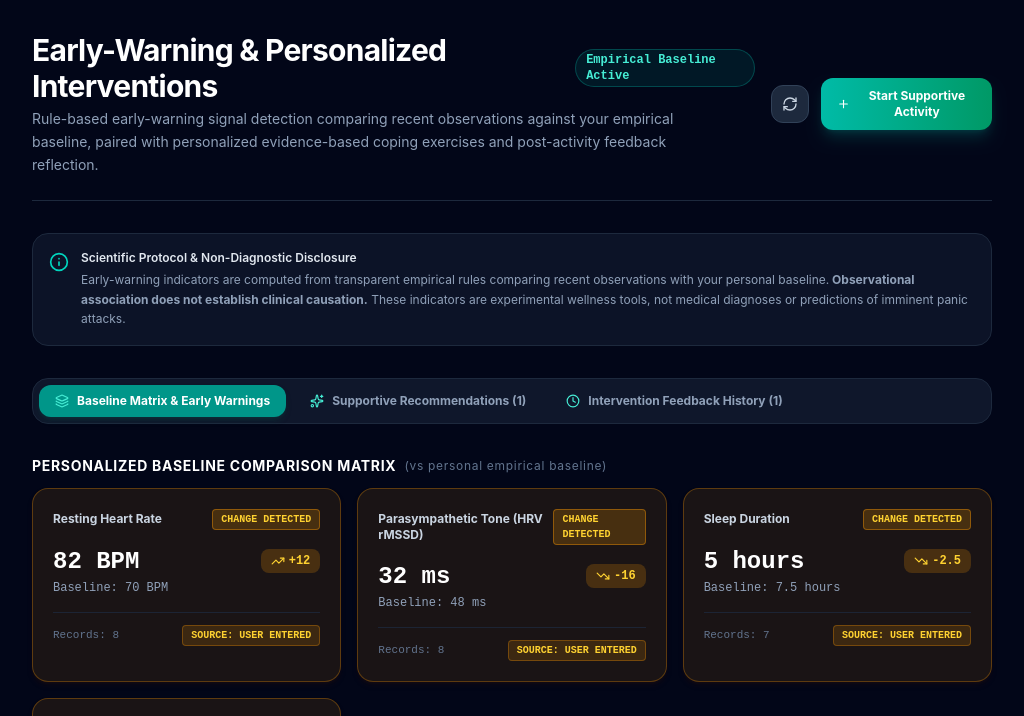
InterventionsPage and Early-Warning Engine › displays contradictory signals and suggests check-in prompt
The image size is (1024, 716).
Note: Check recommendation
Click the button "Supportive Recommendations (1)" at (418, 401), box left=294, top=385, right=542, bottom=417
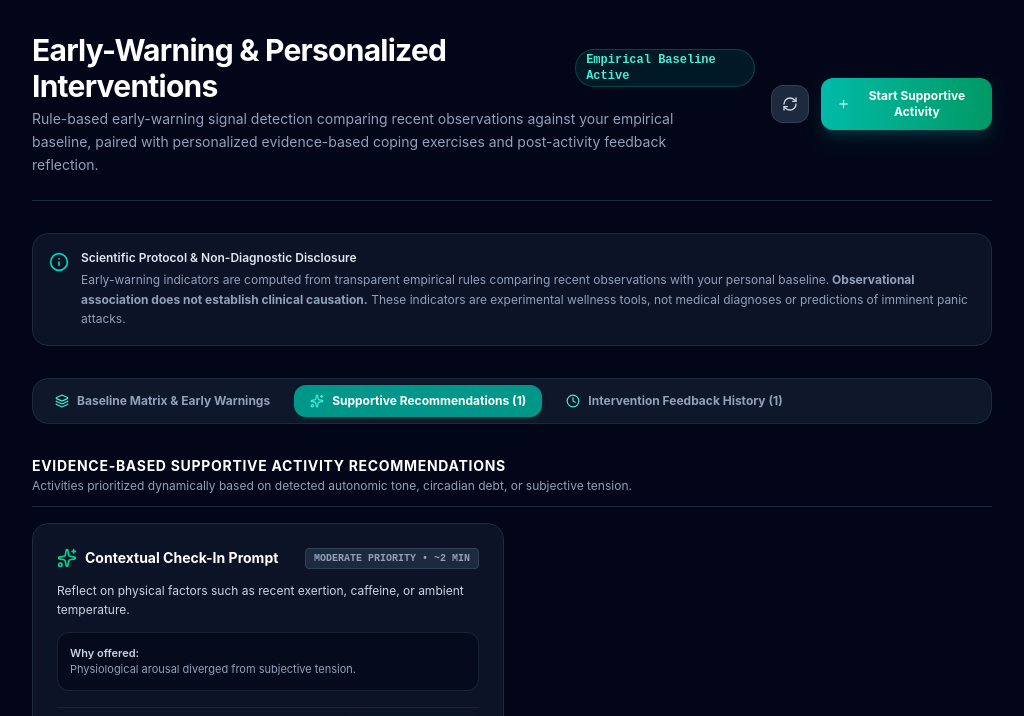
Expected: the heading "Contextual Check-In Prompt" is shown, left=85, top=548, right=278, bottom=568
